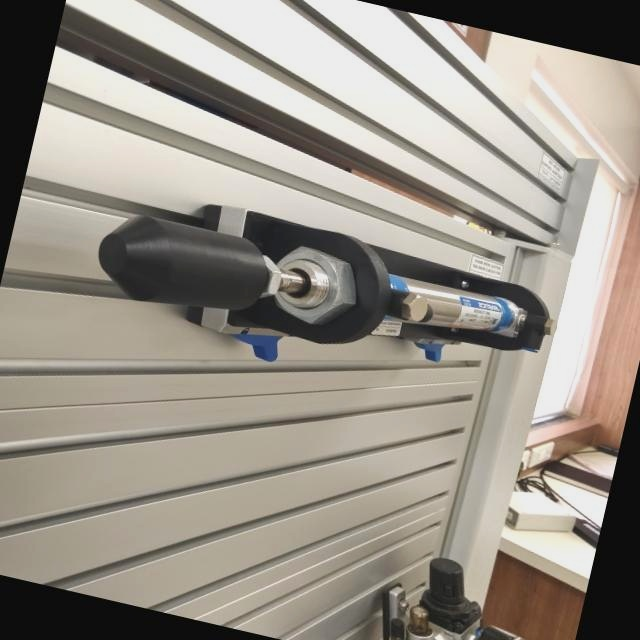double acting pneumatic cylinder: (77, 175, 568, 430)
